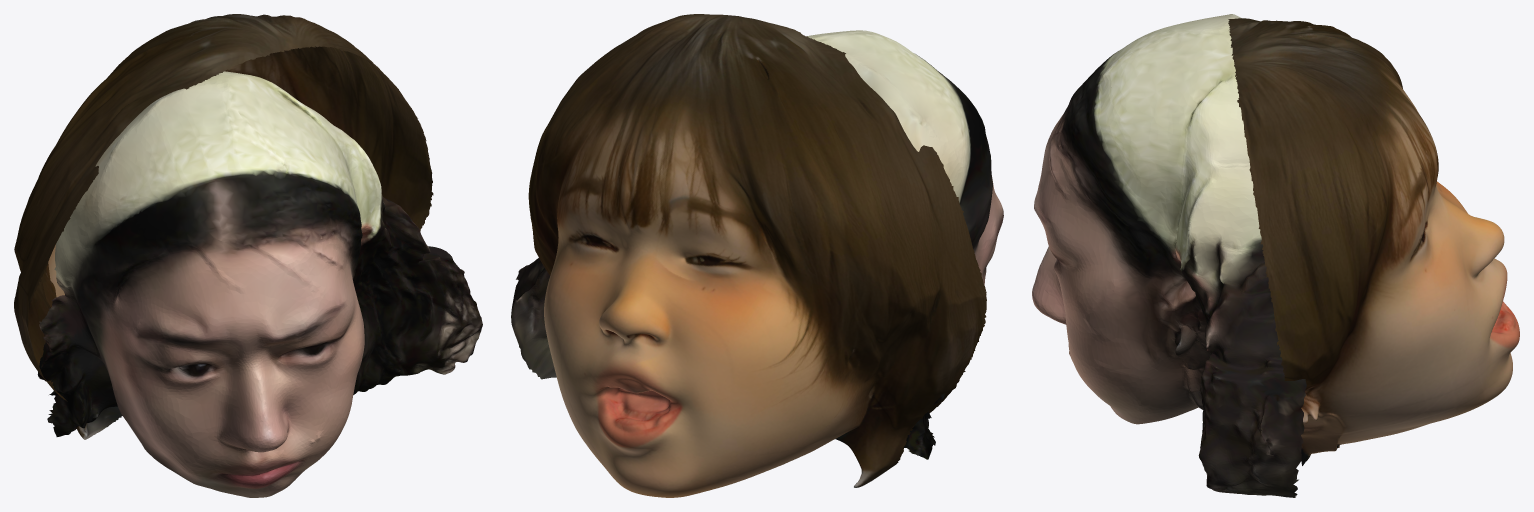
3 renders of one model, left to right at view 1: azimuth 30°, elevation 25°; view 2: azimuth 150°, elevation 25°; view 3: azimuth 270°, elevation 25°, orthographic. The views are drawn at different scales.
Parts seen in each view (by area): view 1: geometry_0, tripo_node_6a923c1e-f834-4e8d-8b1f-ecf1ca9d5931; view 2: tripo_node_6a923c1e-f834-4e8d-8b1f-ecf1ca9d5931, geometry_0; view 3: geometry_0, tripo_node_6a923c1e-f834-4e8d-8b1f-ecf1ca9d5931.
Boxes of the visible parts, x1,y1,x2,y2 form: geometry_0: (37,71,482,497); tripo_node_6a923c1e-f834-4e8d-8b1f-ecf1ca9d5931: (14,14,433,439); tripo_node_6a923c1e-f834-4e8d-8b1f-ecf1ca9d5931: (528,14,986,497); geometry_0: (511,30,1003,459); geometry_0: (1032,14,1306,497); tripo_node_6a923c1e-f834-4e8d-8b1f-ecf1ca9d5931: (1228,18,1519,465).
Size of the model in its own units: 104 by 91.56 by 98.72.
2 materials, 1 textured.
